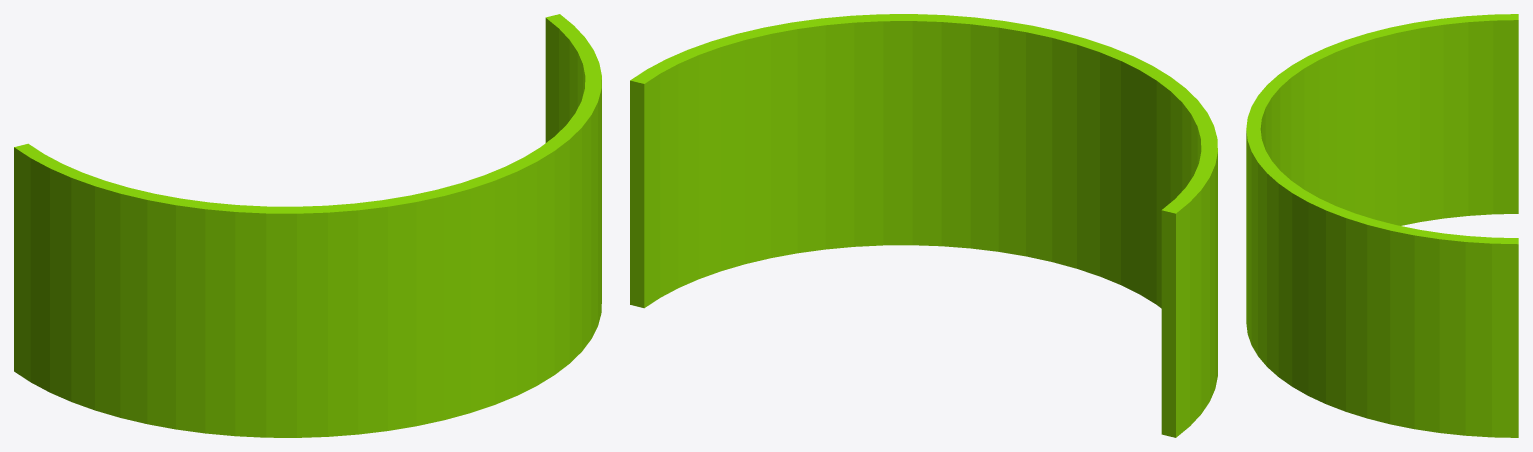
File: Wall_02_Half_Bend_02.fbx
The picture shows the model from 3 angles, left to right: view 1: azimuth 30°, elevation 25°; view 2: azimuth 150°, elevation 25°; view 3: azimuth 270°, elevation 25°; orthographic projection. The views are drawn at different scales.
Parts seen in each view (by area): view 1: Wall_02_Half_Bend_02; view 2: Wall_02_Half_Bend_02; view 3: Wall_02_Half_Bend_02.
Part boxes in pixels (x1,y1,x2,y2): Wall_02_Half_Bend_02: (14, 14, 601, 437); Wall_02_Half_Bend_02: (630, 14, 1217, 437); Wall_02_Half_Bend_02: (1246, 14, 1518, 437).
Bounding box in the file's own units: 843 × 331 × 421.
